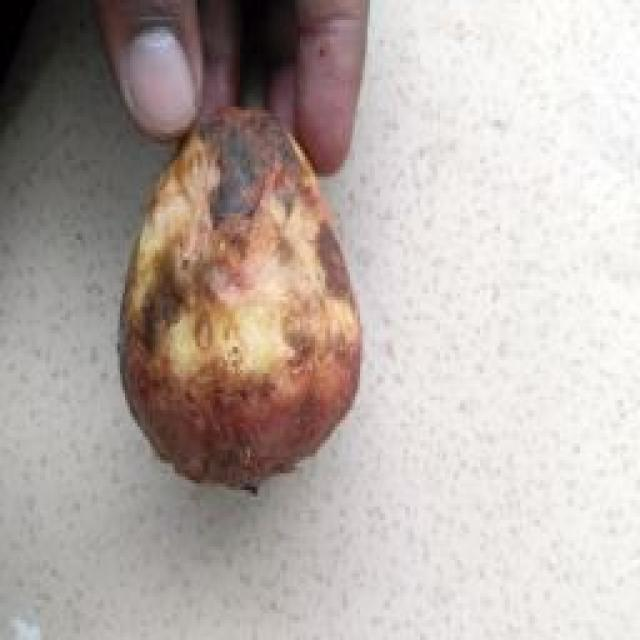Bad_Guava: (120, 108, 361, 486)
